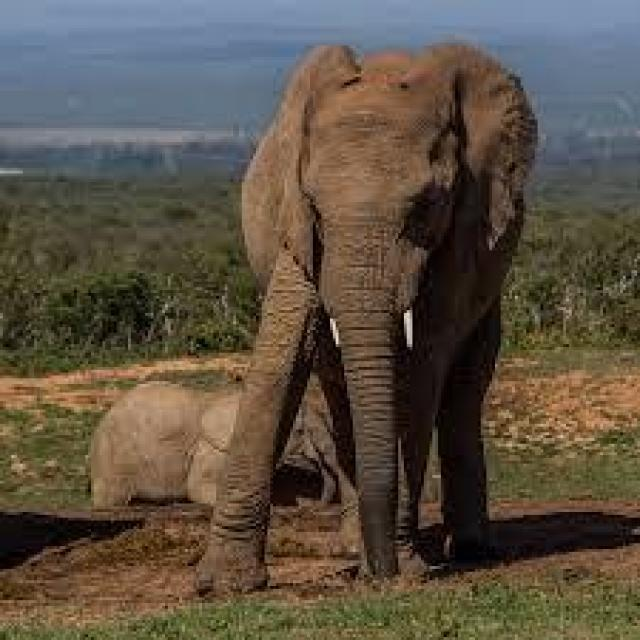Elephant: (208, 37, 538, 592)
